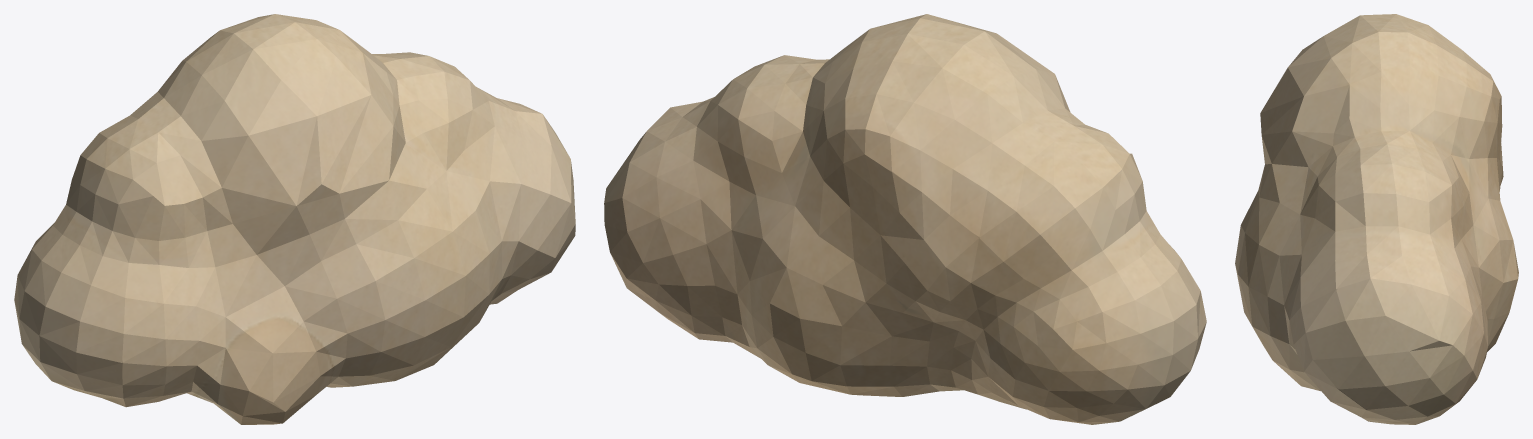
The model's file is Cloud_004.fbx.
3 views of the same model, side by side, from view 1: azimuth 30°, elevation 25°; view 2: azimuth 150°, elevation 25°; view 3: azimuth 270°, elevation 25° (orthographic). The views are drawn at different scales.
Parts seen in each view (by area): view 1: Cloud.004; view 2: Cloud.004; view 3: Cloud.004.
Boxes of the visible parts, x1=… form: Cloud.004: x1=14, y1=14, x2=575, y2=424; Cloud.004: x1=604, y1=14, x2=1206, y2=424; Cloud.004: x1=1235, y1=14, x2=1518, y2=424.
Size of the model in its own units: 99.52 by 63.17 by 49.75.
